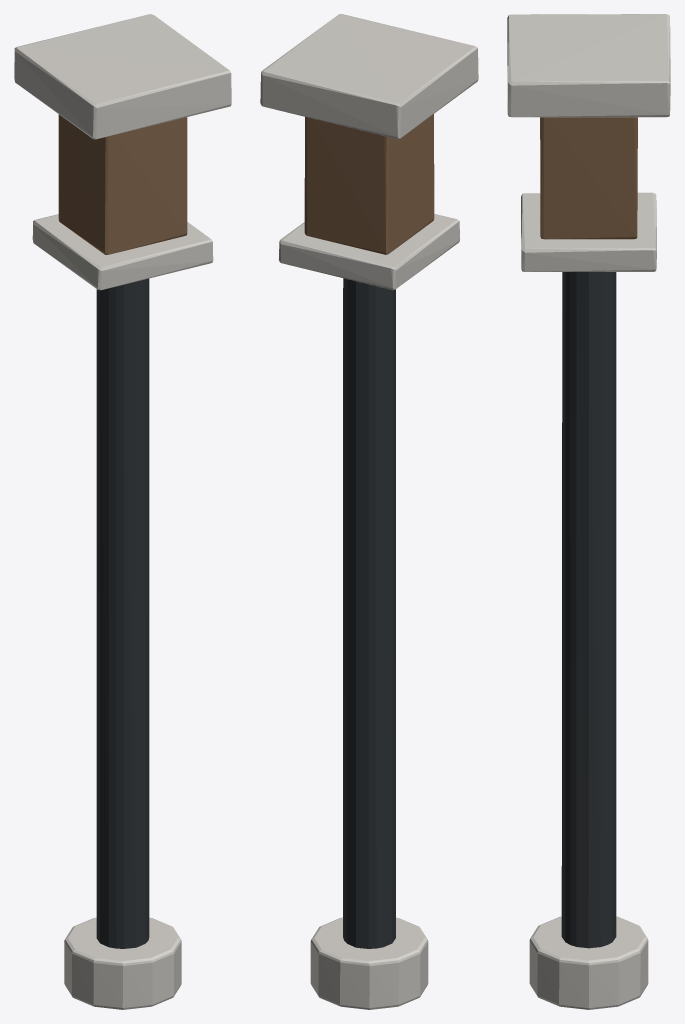
Rendered from SM_Kit_Prop_LampPost_LOD1.glb.
3 views of the same model, side by side, from view 1: azimuth 30°, elevation 25°; view 2: azimuth 150°, elevation 25°; view 3: azimuth 270°, elevation 25° (orthographic).
Visible parts, largest first — view 1: SM_Kit_Prop_LampPost_LOD1; view 2: SM_Kit_Prop_LampPost_LOD1; view 3: SM_Kit_Prop_LampPost_LOD1.
Part boxes in pixels (<box>): SM_Kit_Prop_LampPost_LOD1: <box>14,14,231,1009</box>; SM_Kit_Prop_LampPost_LOD1: <box>260,14,478,1009</box>; SM_Kit_Prop_LampPost_LOD1: <box>507,14,670,1009</box>.
Bounding box in the file's own units: 0.6 × 3.8 × 0.6.
